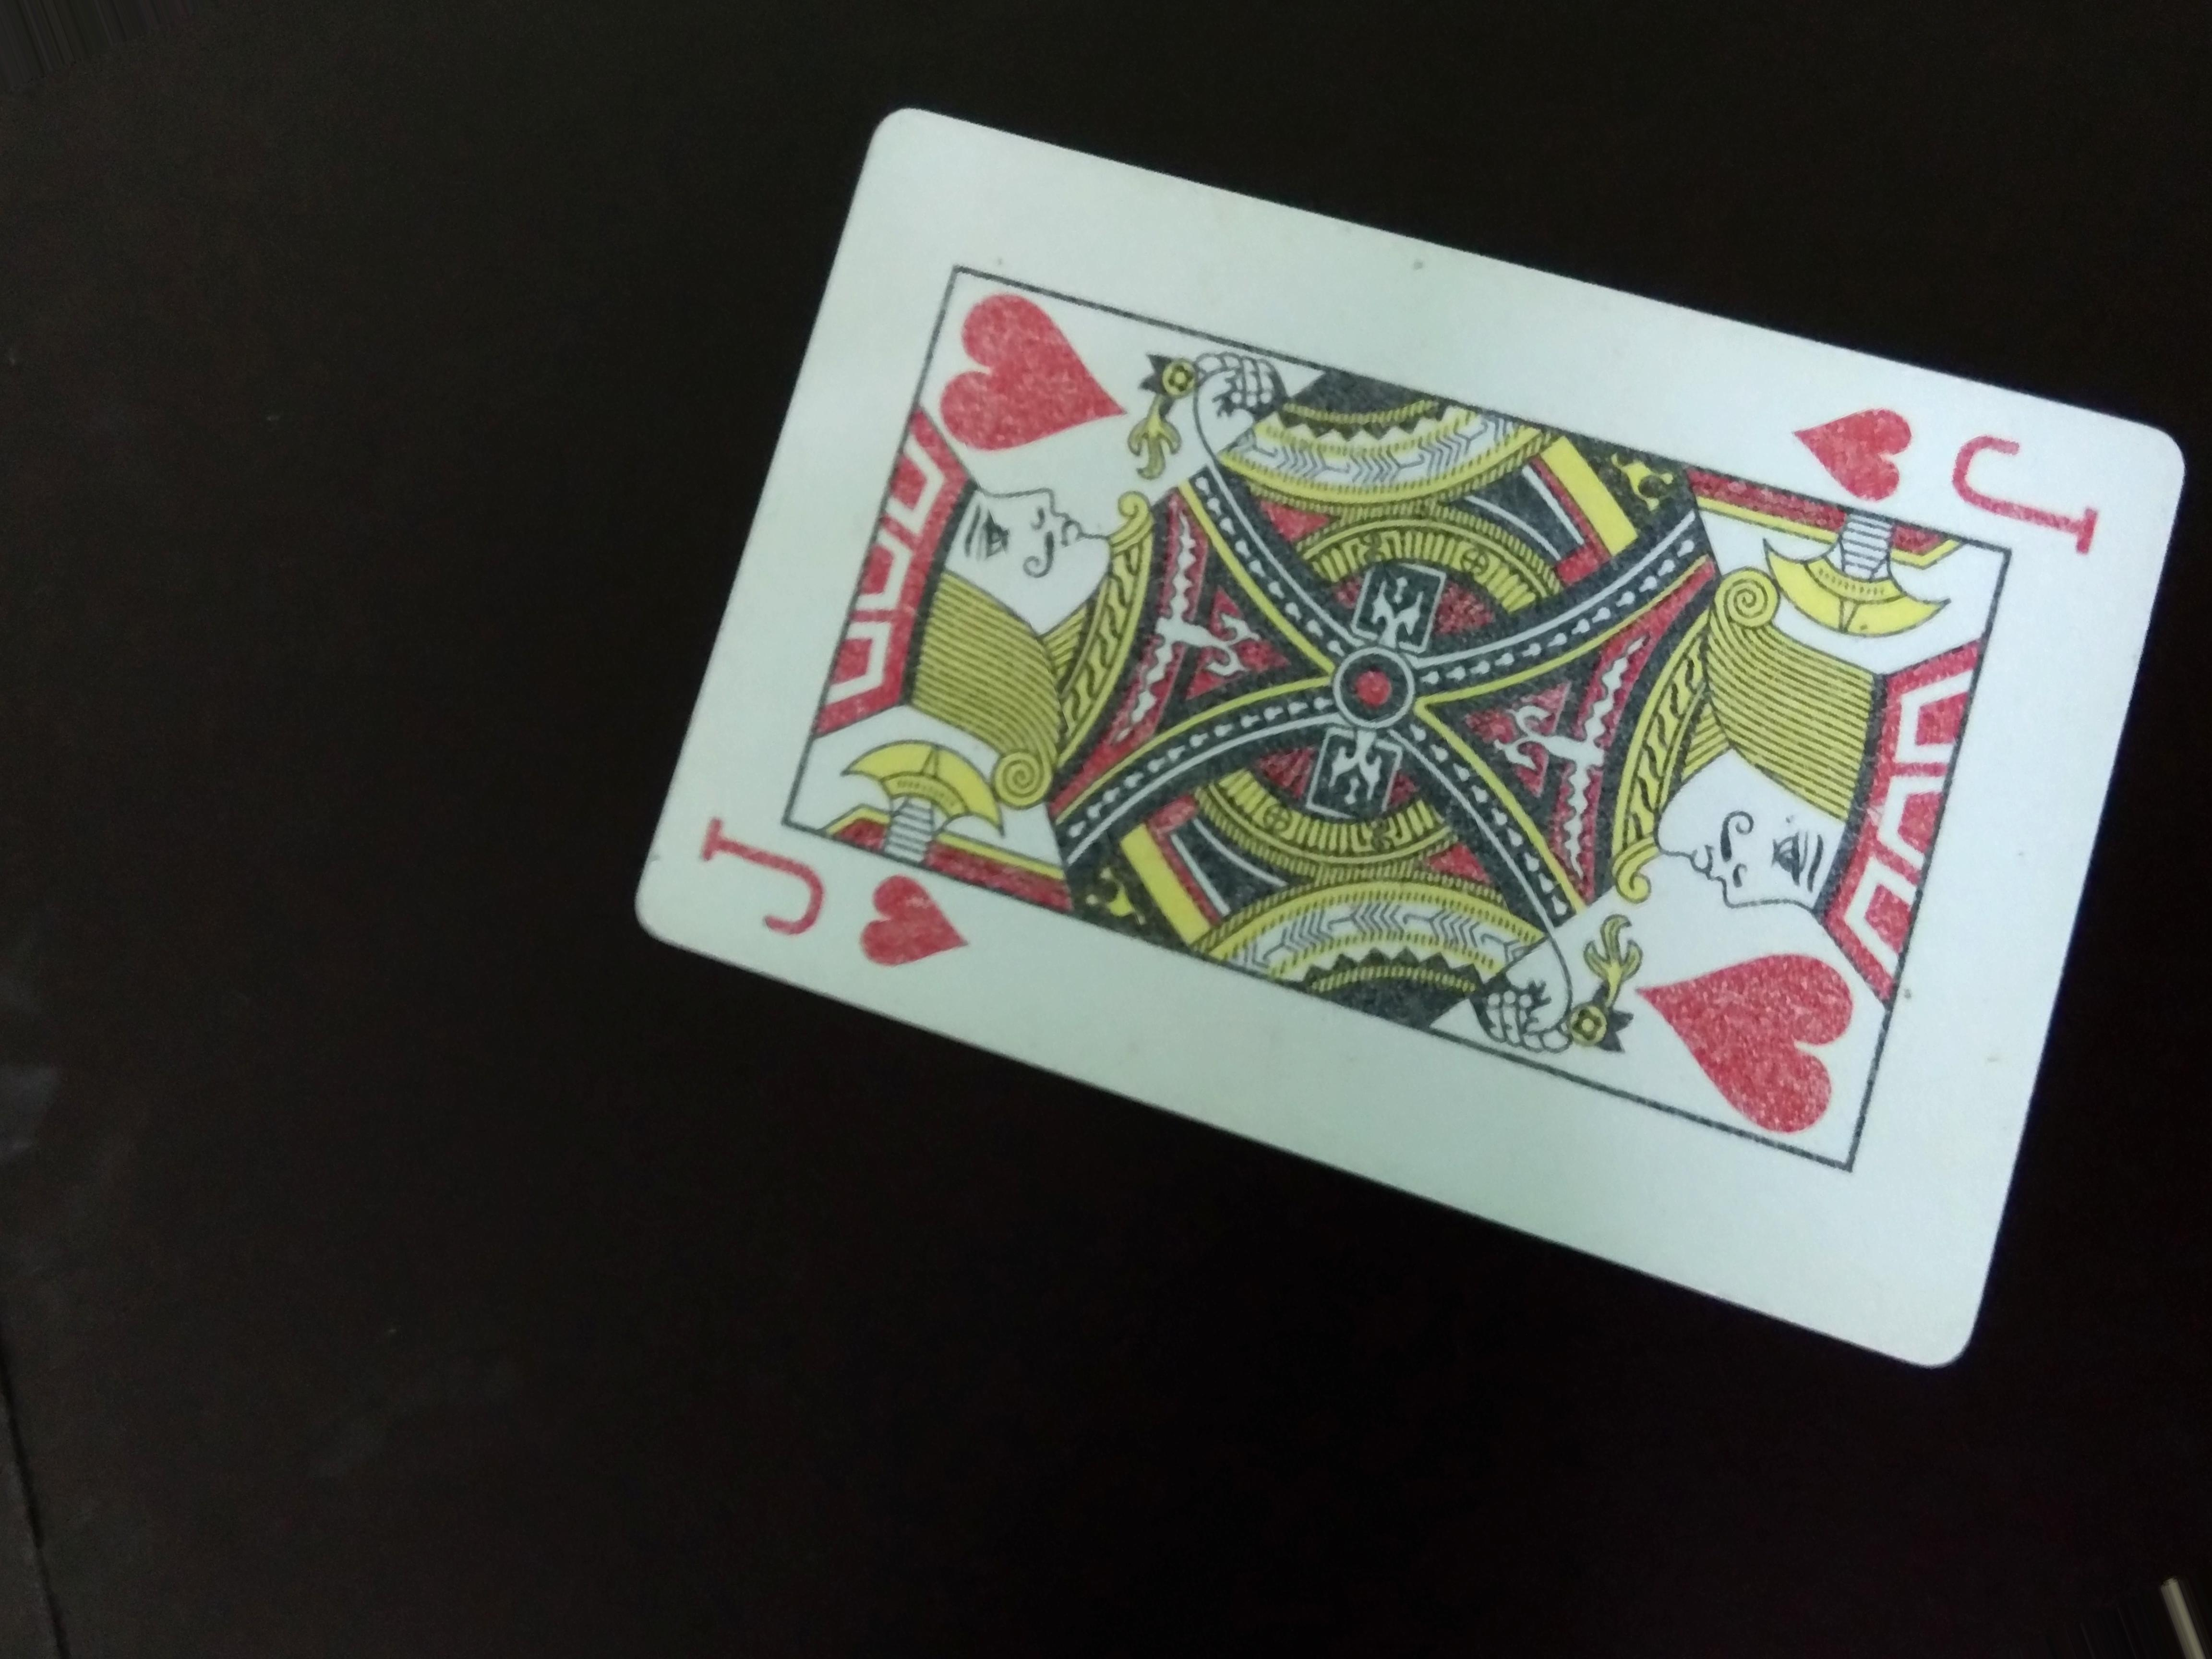JH: (1787, 394, 2109, 565)
